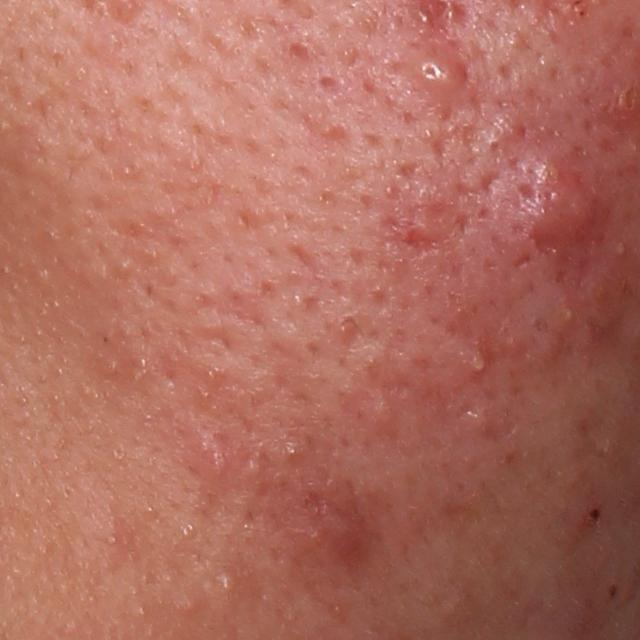atrophic_scar: (394, 225, 442, 258)
comedo: (178, 593, 201, 618), (218, 572, 240, 597), (285, 440, 305, 463), (113, 259, 132, 278)
nodule: (506, 150, 610, 252)
papule: (317, 509, 369, 561), (200, 440, 238, 480)
pustule: (398, 43, 472, 99), (461, 346, 490, 378)
